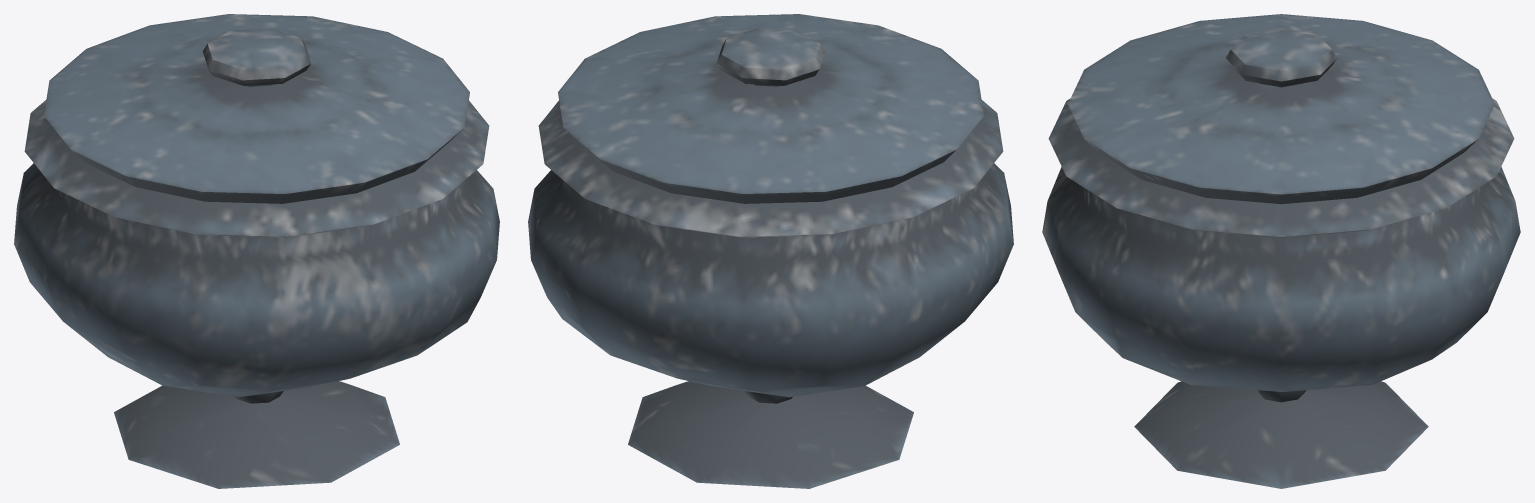
Rendered from Bomboniere2.fbx.
3 renders of one model, left to right at view 1: azimuth 30°, elevation 25°; view 2: azimuth 150°, elevation 25°; view 3: azimuth 270°, elevation 25°, orthographic.
Visible parts, largest first — view 1: Bomboniere2, Tampa2; view 2: Bomboniere2, Tampa2; view 3: Bomboniere2, Tampa2.
Boxes of the visible parts, x1=… form: Bomboniere2: x1=14, y1=163, x2=499, y2=488; Tampa2: x1=24, y1=14, x2=489, y2=237; Bomboniere2: x1=528, y1=163, x2=1013, y2=488; Tampa2: x1=538, y1=14, x2=1003, y2=237; Bomboniere2: x1=1042, y1=167, x2=1520, y2=488; Tampa2: x1=1048, y1=14, x2=1514, y2=237.
Bounding box in the file's own units: 36.06 × 31.76 × 36.06.
